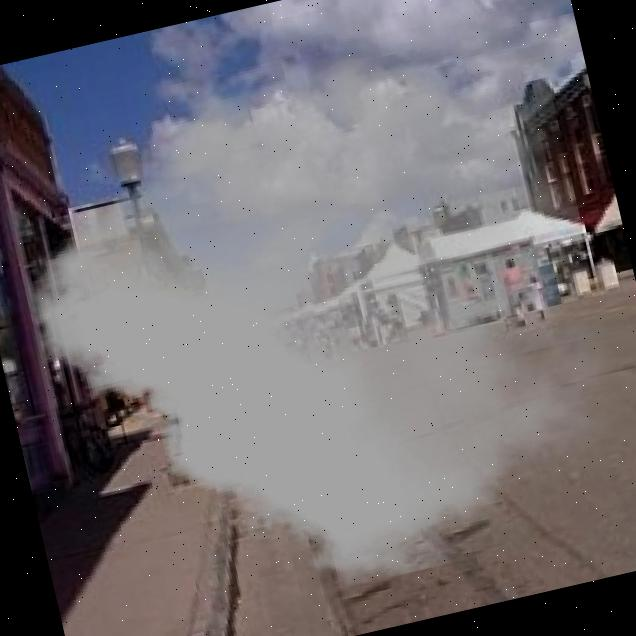smoke: (0, 11, 636, 636)
